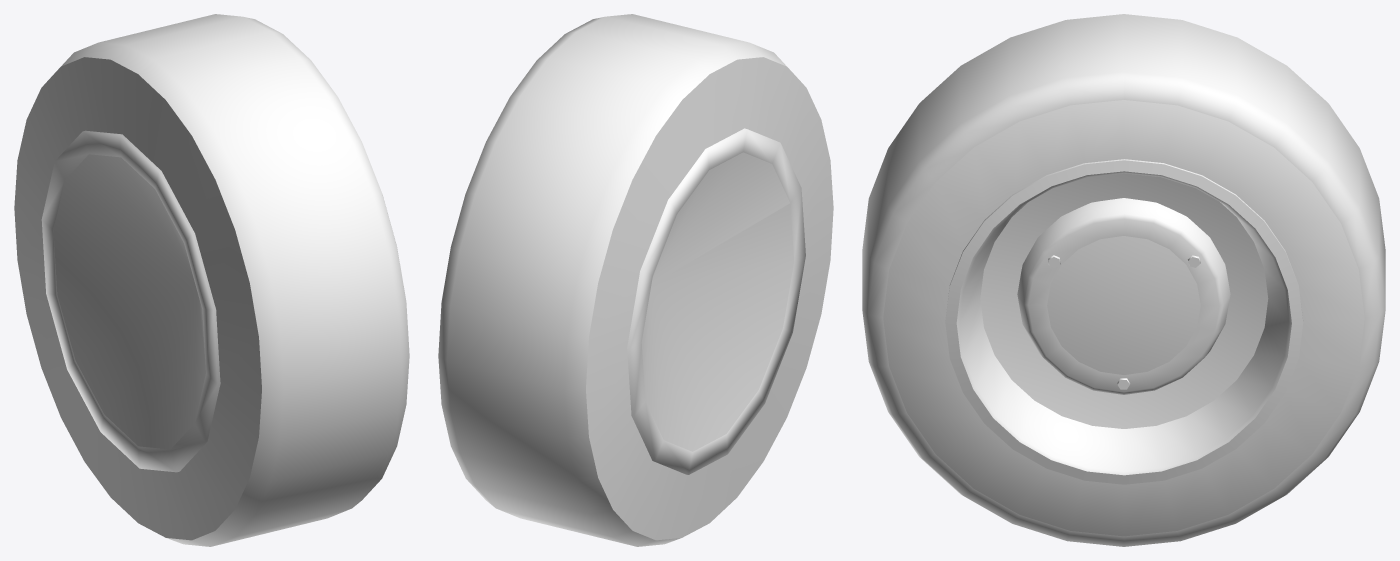
The picture shows the model from 3 angles, left to right: view 1: azimuth 30°, elevation 25°; view 2: azimuth 150°, elevation 25°; view 3: azimuth 270°, elevation 25°; orthographic projection.
Bounding box in the file's own units: 0.1919 × 0.5116 × 0.5116.
Materials: 1 (1 with a texture image).
